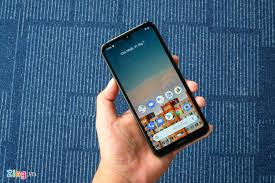nokia: (89, 20, 213, 156)
